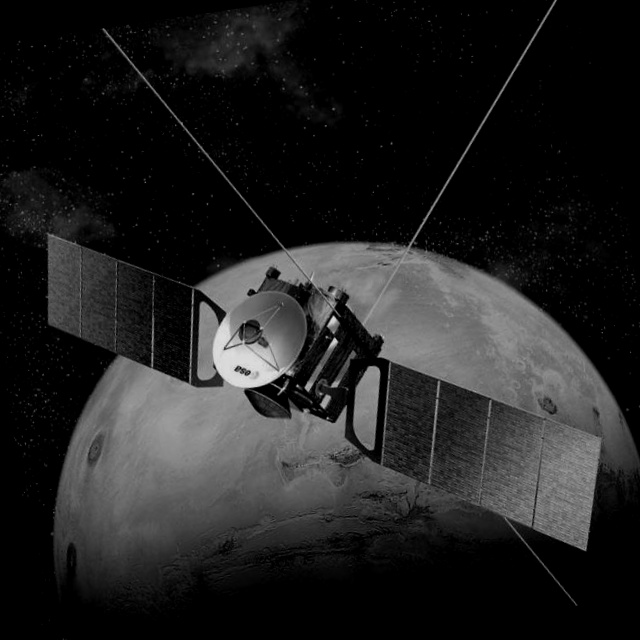satellite: (23, 132, 624, 631)
